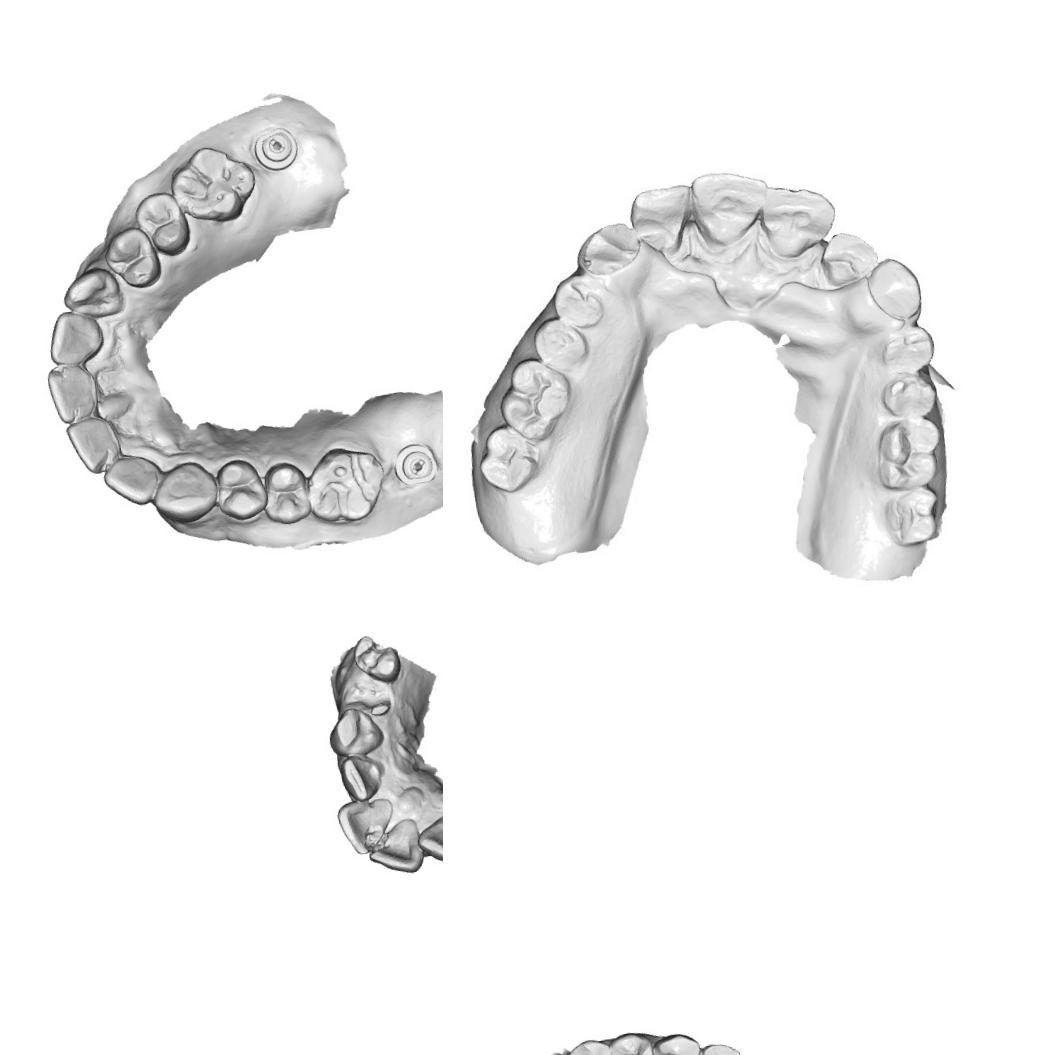canine: (147, 454, 222, 530), (863, 251, 928, 326), (570, 216, 641, 278), (58, 263, 128, 324), (324, 704, 386, 760), (648, 1030, 704, 1055)
implant_minus: (249, 123, 301, 174), (392, 438, 440, 489)
incisor: (684, 165, 776, 250), (750, 176, 840, 262), (624, 178, 698, 258), (43, 304, 108, 371), (816, 224, 882, 288), (333, 796, 399, 858), (44, 360, 105, 426), (98, 448, 162, 510), (63, 408, 119, 478), (363, 816, 426, 878), (336, 751, 388, 804), (414, 812, 443, 868), (691, 1039, 745, 1055)
molar: (166, 139, 262, 229), (299, 440, 392, 529), (494, 354, 576, 444), (870, 416, 946, 493), (473, 420, 546, 496), (880, 487, 942, 550)
premolar: (130, 188, 195, 262), (100, 222, 165, 295), (210, 454, 272, 527), (257, 456, 315, 530), (872, 321, 940, 377), (530, 315, 588, 376), (550, 272, 608, 333), (879, 370, 944, 422), (350, 630, 404, 686), (607, 1029, 658, 1055), (564, 1035, 618, 1055)
